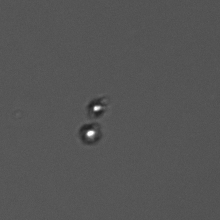Living Cell: (76, 121, 103, 146), (87, 97, 106, 115)
